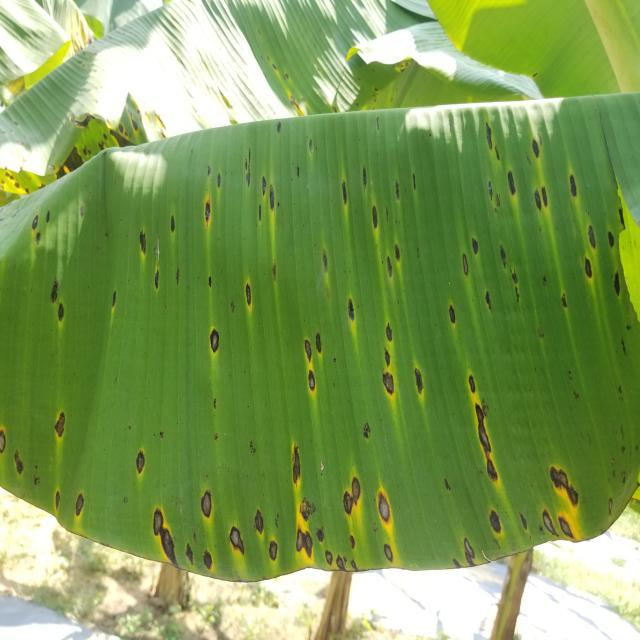Early_rust: (0, 99, 640, 572)
